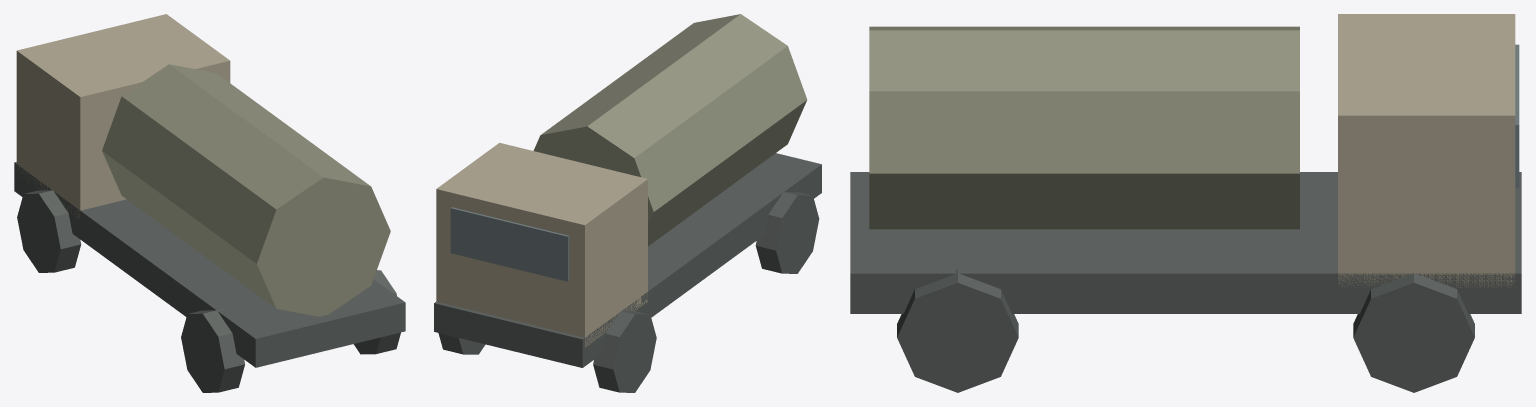
File: fuel-truck.glb
3 renders of one model, left to right at view 1: azimuth 30°, elevation 25°; view 2: azimuth 150°, elevation 25°; view 3: azimuth 270°, elevation 25°, orthographic. The views are drawn at different scales.
Visible parts, largest first — view 1: fuel-truck-3, fuel-truck-1, fuel-truck-0, fuel-truck-6, fuel-truck-4, fuel-truck-7; view 2: fuel-truck-3, fuel-truck-1, fuel-truck-0, fuel-truck-2, fuel-truck-6, fuel-truck-4, fuel-truck-5; view 3: fuel-truck-3, fuel-truck-1, fuel-truck-0, fuel-truck-7, fuel-truck-5, fuel-truck-2.
Part boxes in pixels (x1=…): fuel-truck-3: x1=102, y1=64, x2=390, y2=316; fuel-truck-1: x1=16, y1=14, x2=230, y2=219; fuel-truck-0: x1=14, y1=162, x2=405, y2=367; fuel-truck-6: x1=181, y1=309, x2=244, y2=392; fuel-truck-4: x1=17, y1=190, x2=81, y2=272; fuel-truck-7: x1=353, y1=270, x2=400, y2=354; fuel-truck-3: x1=533, y1=14, x2=807, y2=246; fuel-truck-1: x1=436, y1=142, x2=647, y2=347; fuel-truck-0: x1=434, y1=153, x2=821, y2=367; fuel-truck-2: x1=450, y1=207, x2=569, y2=281; fuel-truck-6: x1=755, y1=190, x2=819, y2=273; fuel-truck-4: x1=593, y1=311, x2=656, y2=392; fuel-truck-5: x1=438, y1=333, x2=485, y2=354; fuel-truck-3: x1=869, y1=26, x2=1299, y2=229; fuel-truck-1: x1=1338, y1=14, x2=1515, y2=287; fuel-truck-0: x1=850, y1=172, x2=1521, y2=313; fuel-truck-7: x1=897, y1=269, x2=1018, y2=392; fuel-truck-5: x1=1353, y1=273, x2=1474, y2=392; fuel-truck-2: x1=1515, y1=44, x2=1519, y2=188.
Bounding box in the file's own units: 2.26 × 2.63 × 5.3.
